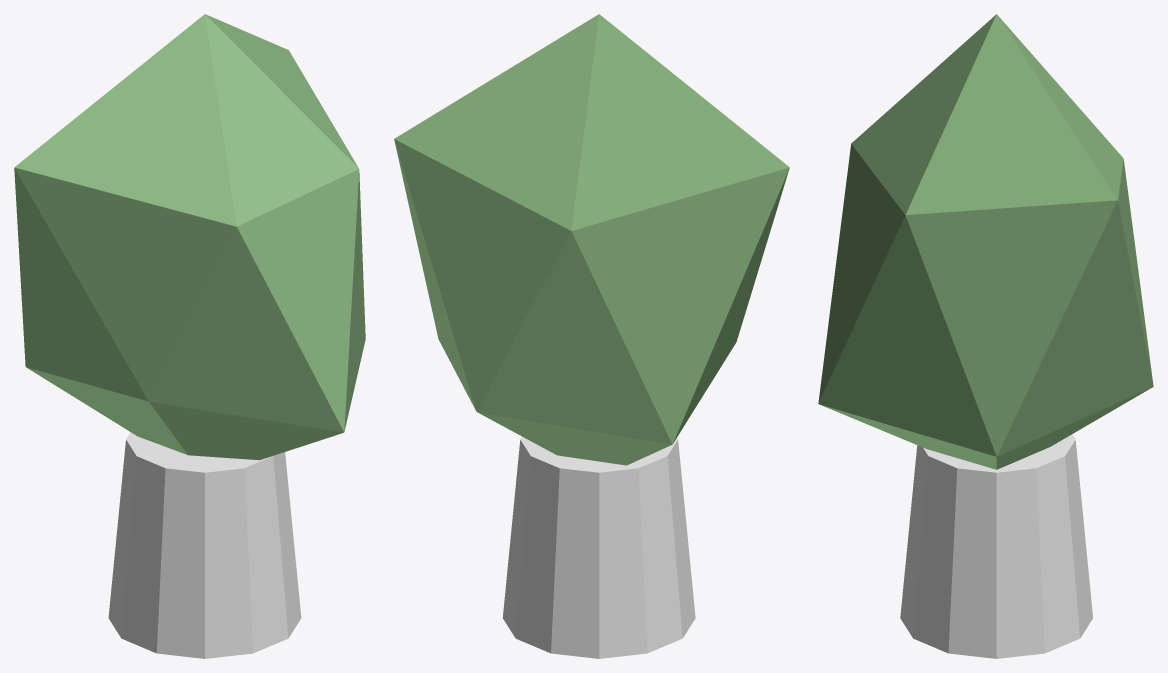
File: OfficePlant.fbx
3 renders of one model, left to right at view 1: azimuth 30°, elevation 25°; view 2: azimuth 150°, elevation 25°; view 3: azimuth 270°, elevation 25°, orthographic.
Parts seen in each view (by area): view 1: OfficePlant_Mesh; view 2: OfficePlant_Mesh; view 3: OfficePlant_Mesh.
Boxes of the visible parts, x1=… form: OfficePlant_Mesh: x1=14, y1=14, x2=365, y2=658; OfficePlant_Mesh: x1=394, y1=14, x2=789, y2=658; OfficePlant_Mesh: x1=818, y1=14, x2=1153, y2=658.
Bounding box in the file's own units: 0.9256 × 0.7647 × 1.52.
